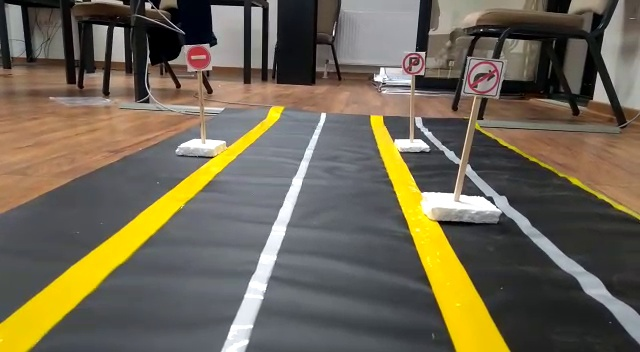girisi_olmayan_yol: (185, 43, 213, 71)
park_yapilmaz: (401, 52, 427, 75)
saga_donulmez: (468, 56, 498, 96)
